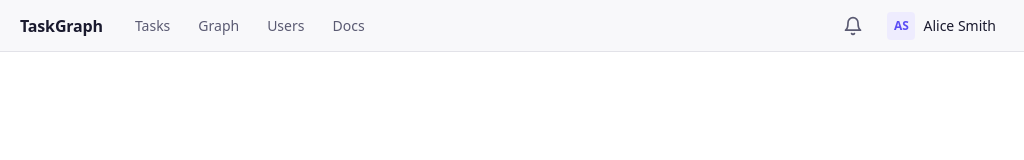
Test: Statusbar › opens user dropdown on user button click
Click the button with aria-label "user menu" at {"x": 942, "y": 26}, box [880,8,1004,44]
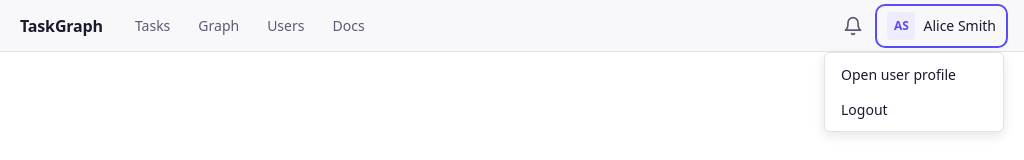
Now the menu item "Open user profile" is shown, box [829,56,999,92]
Now the menu item "Logout" is shown, box [829,92,999,126]
